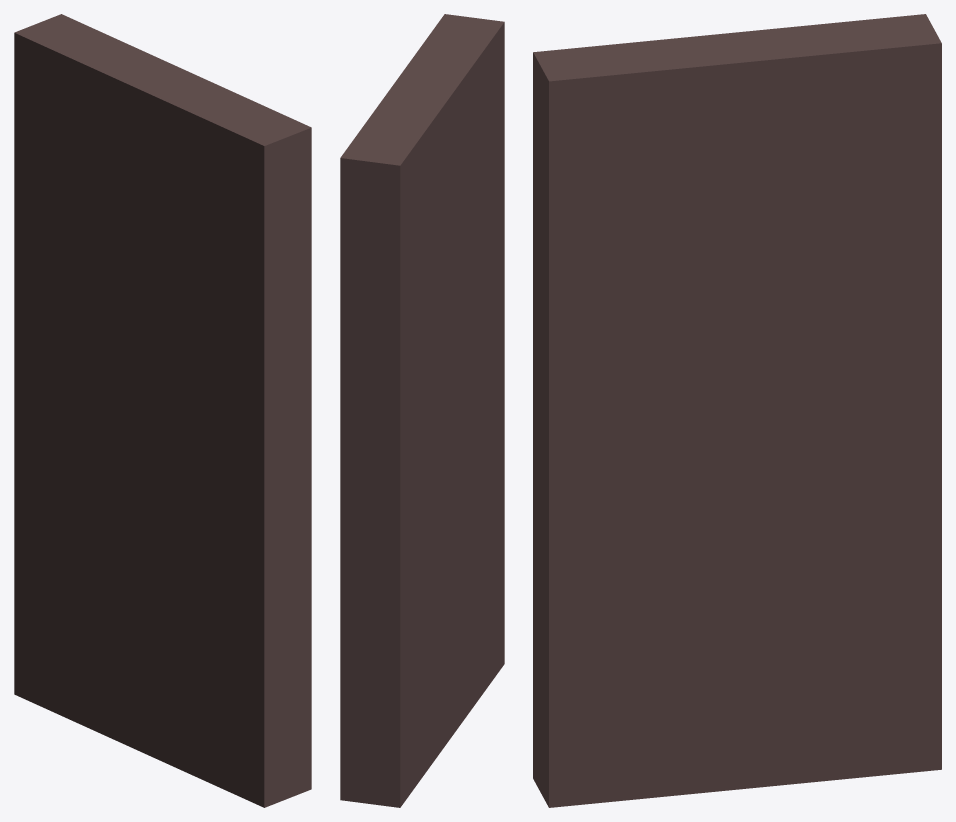
The model's file is portaod.fbx.
3 views of the same model, side by side, from view 1: azimuth 30°, elevation 25°; view 2: azimuth 150°, elevation 25°; view 3: azimuth 270°, elevation 25° (orthographic). The views are drawn at different scales.
Visible parts, largest first — view 1: portad; view 2: portad; view 3: portad.
Part boxes in pixels (x1,y1,x2,y2): portad: (14,14,311,807); portad: (340,14,504,807); portad: (533,14,941,807).
Size of the model in its own units: 9.53 by 47.88 by 24.41.
